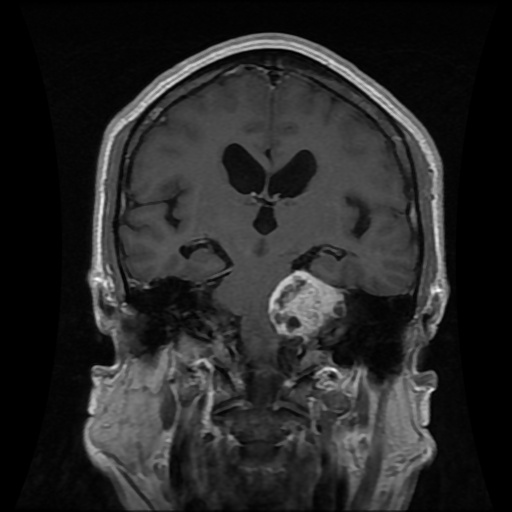meningioma: (267, 268, 347, 340)
